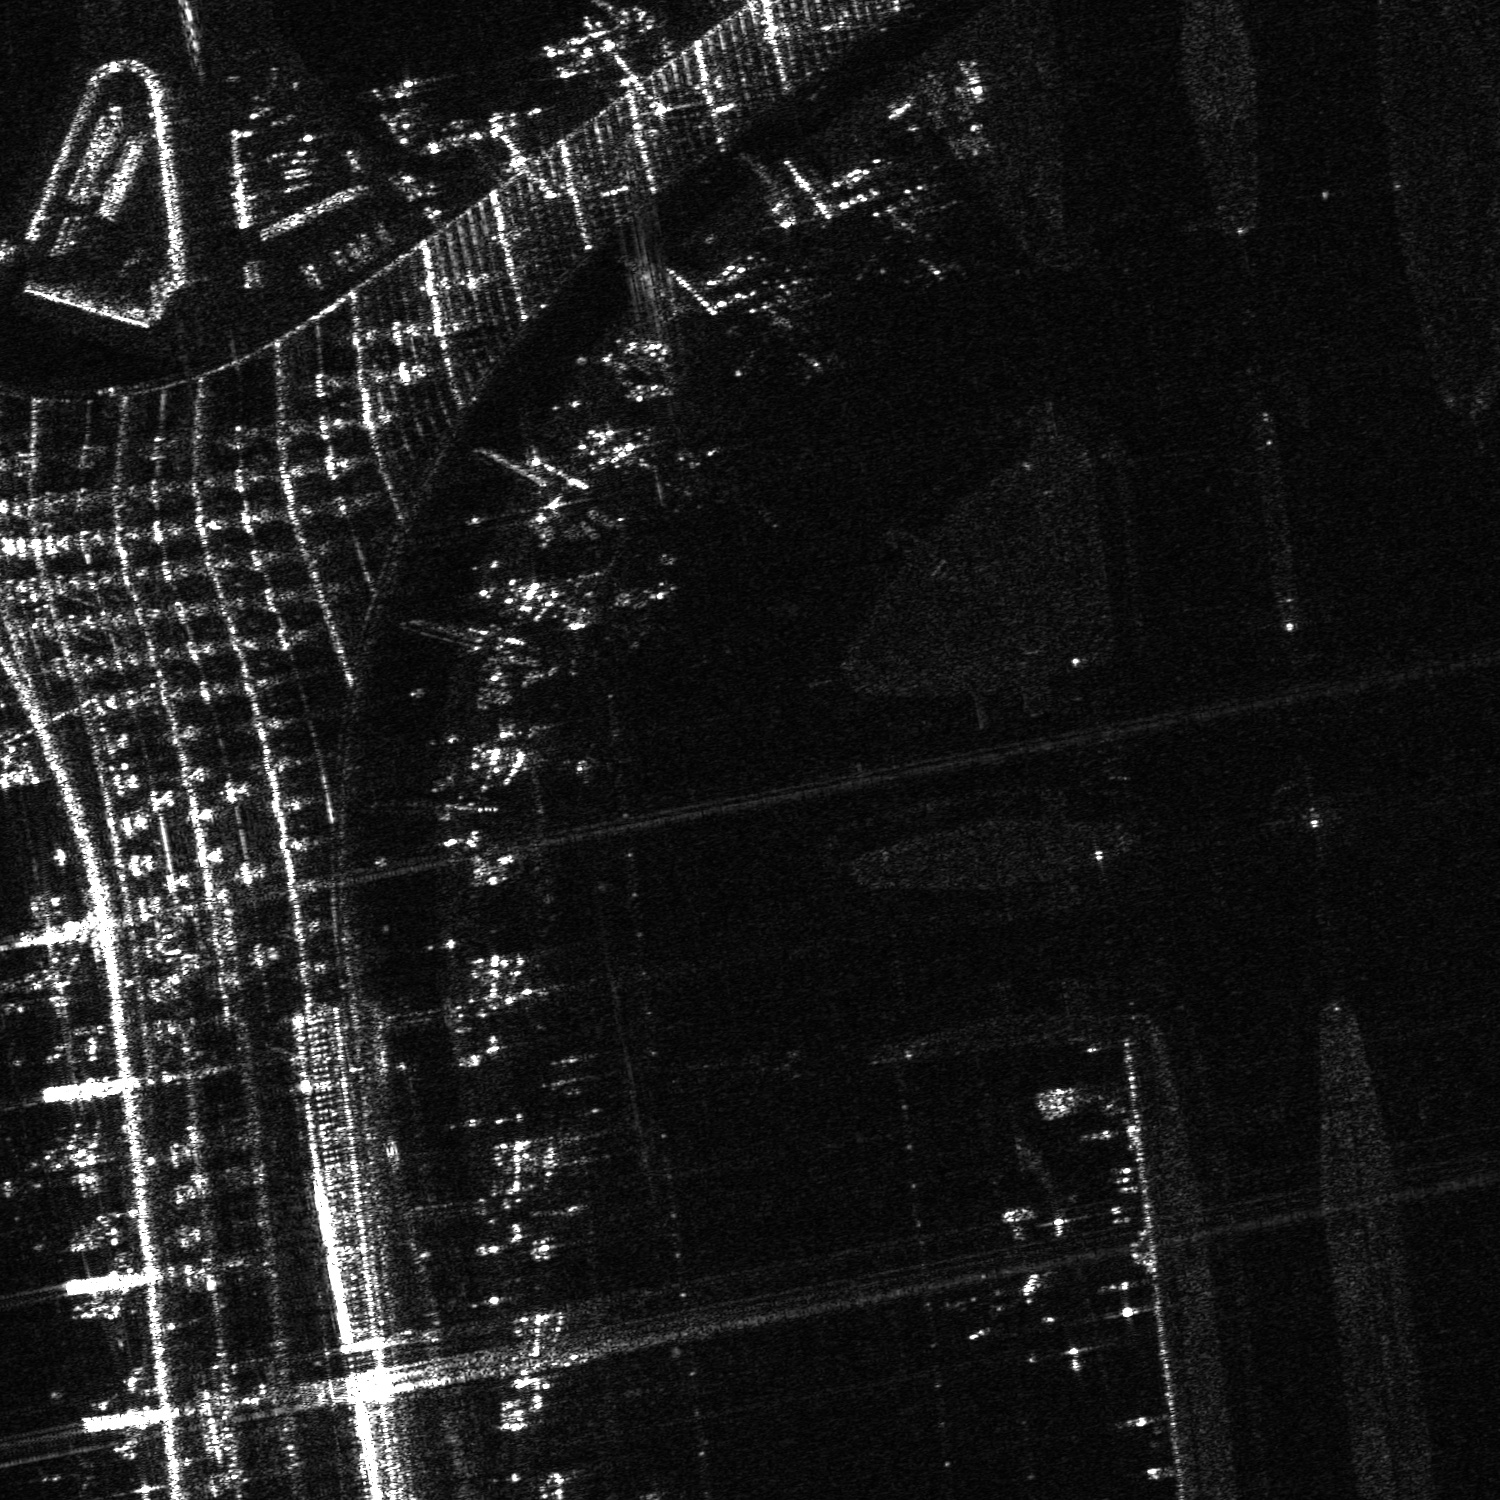A220: (36, 1444, 111, 1499)
Boeing787: (736, 288, 834, 375), (636, 433, 723, 519)
other: (854, 194, 959, 282), (518, 720, 593, 795)
